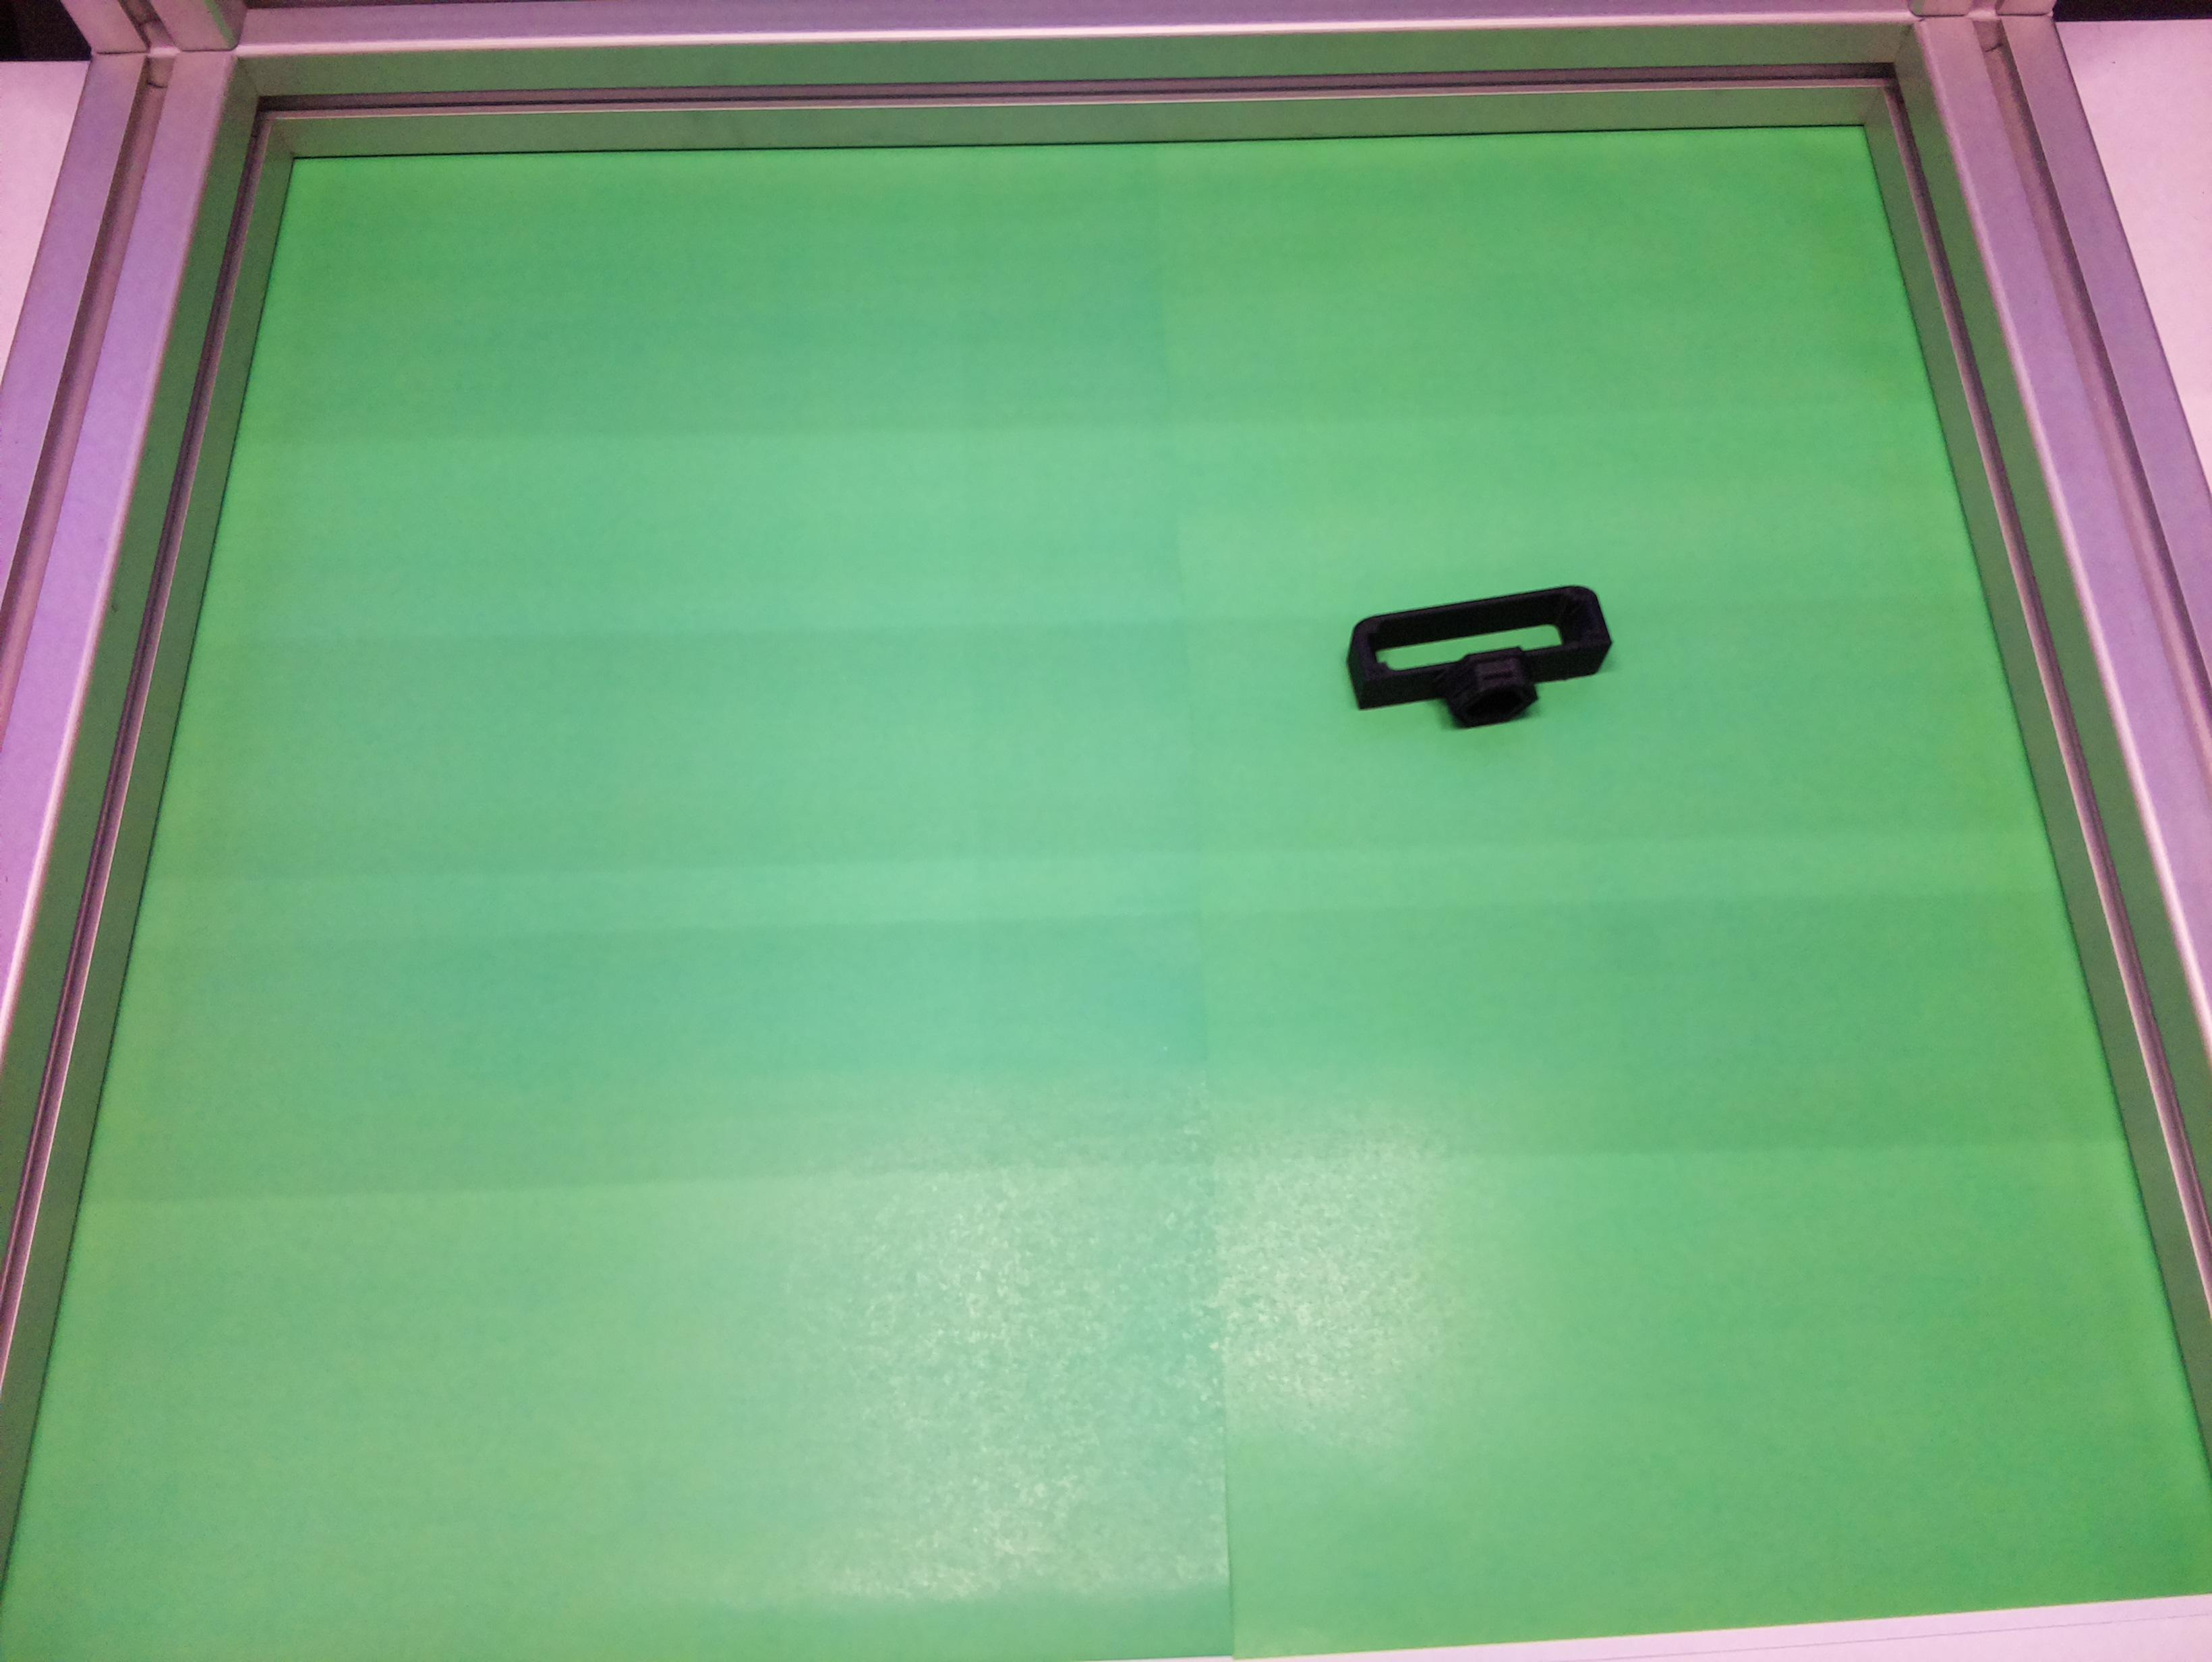cutter_holder: (1341, 581, 1620, 742)
